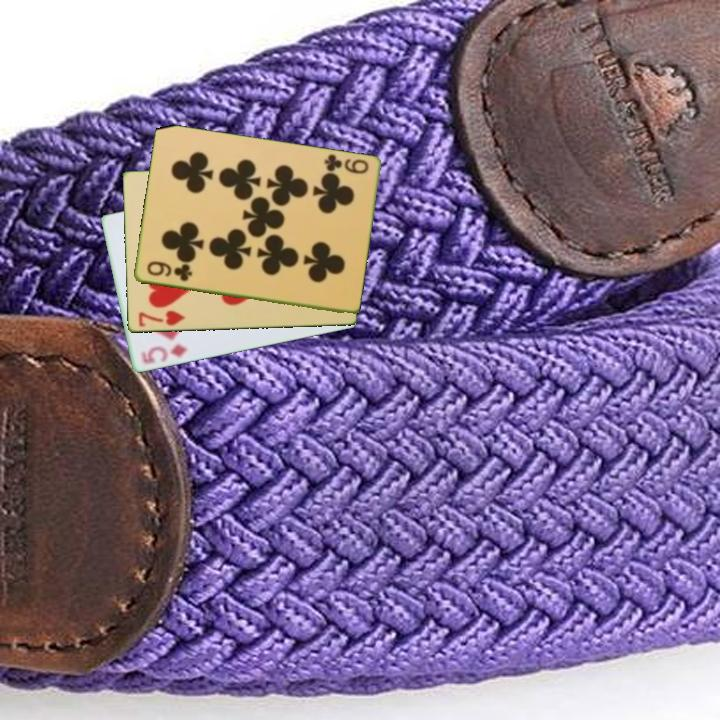5d: (137, 341, 190, 368)
7h: (135, 307, 188, 330)
9c: (143, 258, 195, 284), (320, 151, 371, 177)
